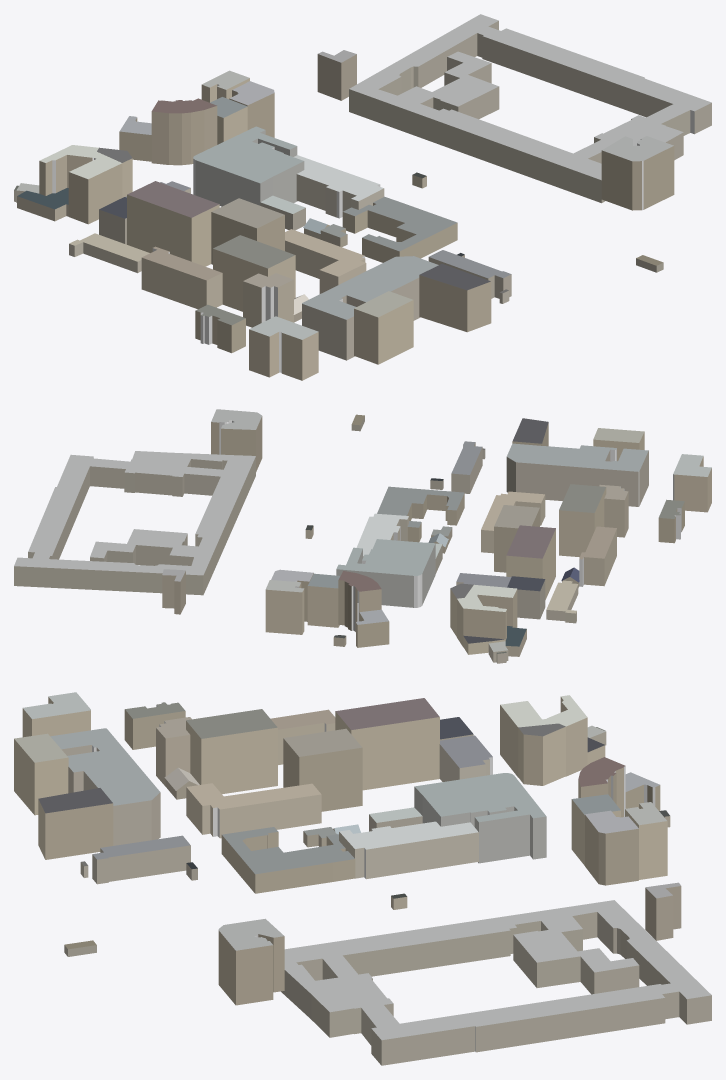
3 views of the same model, one above another, from view 1: azimuth 30°, elevation 25°; view 2: azimuth 150°, elevation 25°; view 3: azimuth 270°, elevation 25° (orthographic). The views are drawn at different scales.
Parts seen in each view (by area): view 1: tuile; view 2: tuile; view 3: tuile.
Boxes of the visible parts, <box> form: tuile: <box>14,14,711,380</box>; tuile: <box>14,409,711,663</box>; tuile: <box>14,692,711,1065</box>.
Bounding box in the file's own units: 314 × 28.01 × 278.
